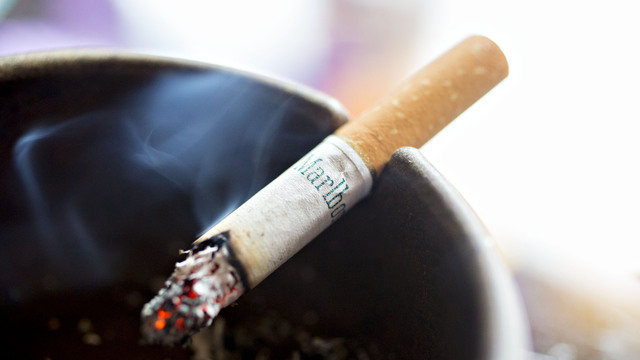cigarette: (131, 27, 517, 350)
